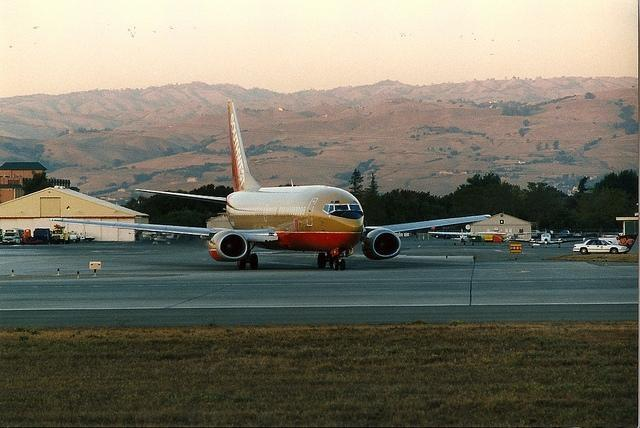car: (572, 239, 630, 255), (602, 236, 621, 246)
truck: (3, 228, 25, 244), (53, 229, 70, 244)
